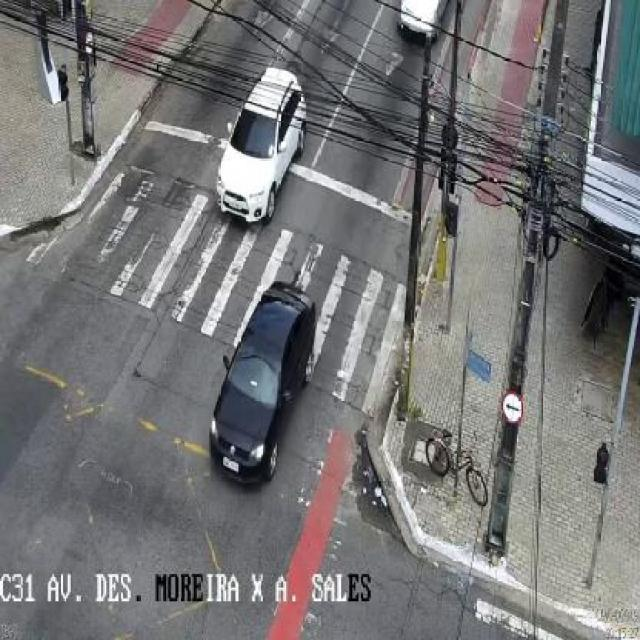Car: (209, 280, 316, 488), (215, 66, 310, 226)
Cycle: (423, 428, 490, 507)
